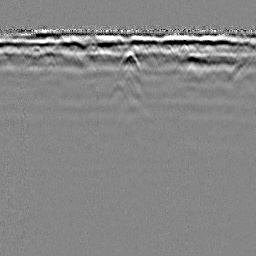cavity: (116, 48, 142, 73)
